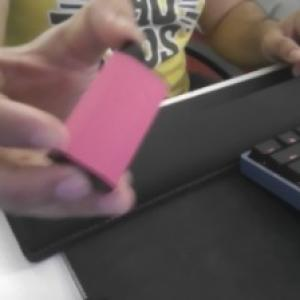Blume-E-Ciggirate: (44, 41, 171, 192)
